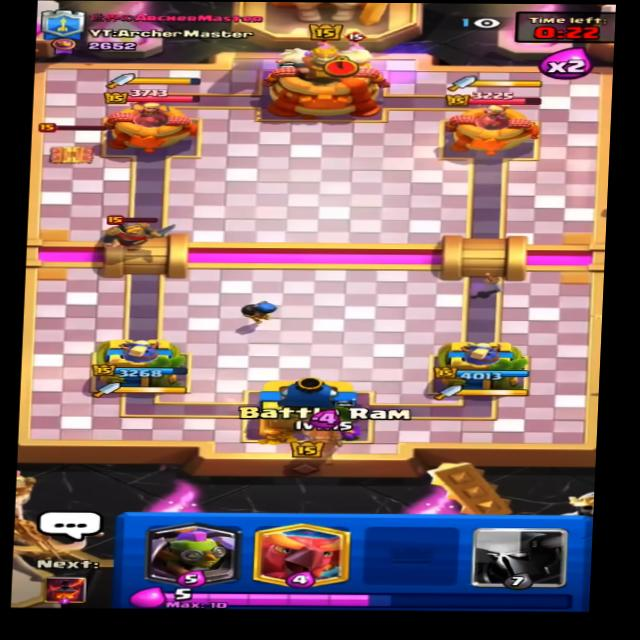knight: (104, 214, 171, 248)
tesla-closed: (31, 120, 114, 173)
